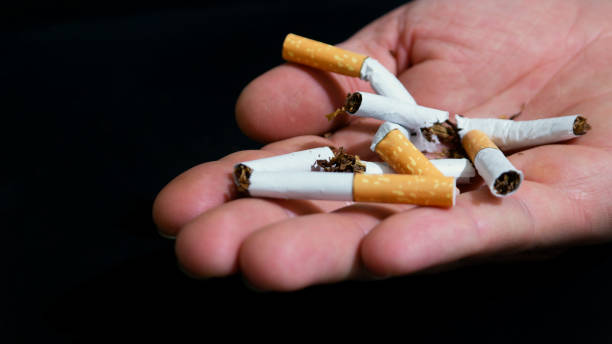cigarette: (281, 34, 418, 105), (240, 169, 459, 208), (455, 113, 590, 151), (315, 148, 476, 179), (231, 144, 338, 190), (344, 90, 449, 135), (460, 129, 524, 197), (369, 120, 446, 175)
